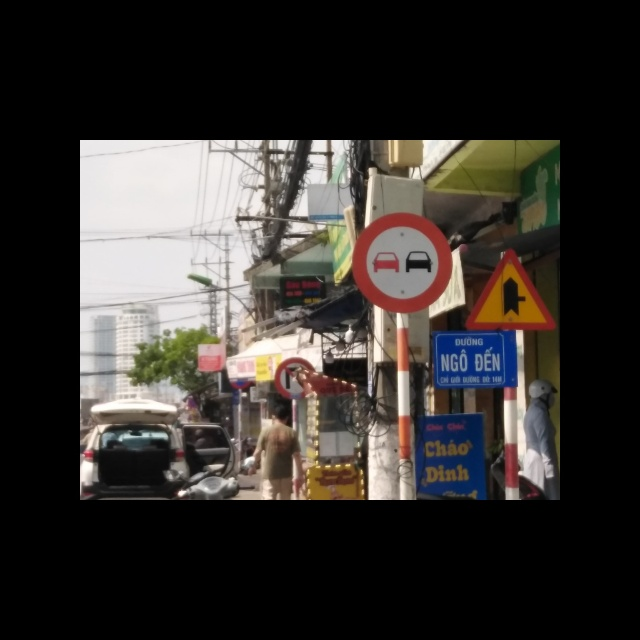Cấm vượt: (348, 212, 451, 313)
Giao nhau với đường không ưu tiên: (463, 247, 554, 332)
